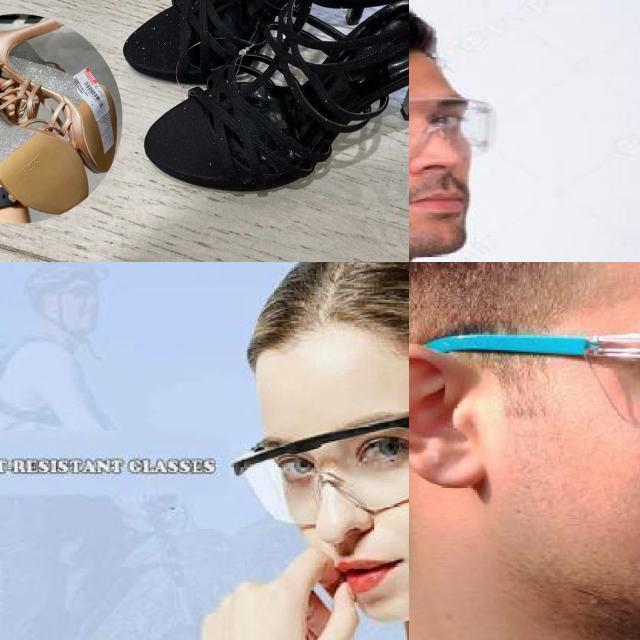No_Ear-Protection: (409, 332, 497, 510)
Sandals: (107, 0, 409, 212)
face_nomask: (272, 425, 409, 600), (409, 94, 484, 219)
glasses: (409, 303, 640, 448), (230, 366, 409, 528), (409, 93, 499, 159)
hand_noglove: (196, 543, 367, 640)
head_nohelmet: (236, 262, 409, 375)
person: (185, 262, 409, 640), (409, 0, 569, 262)
